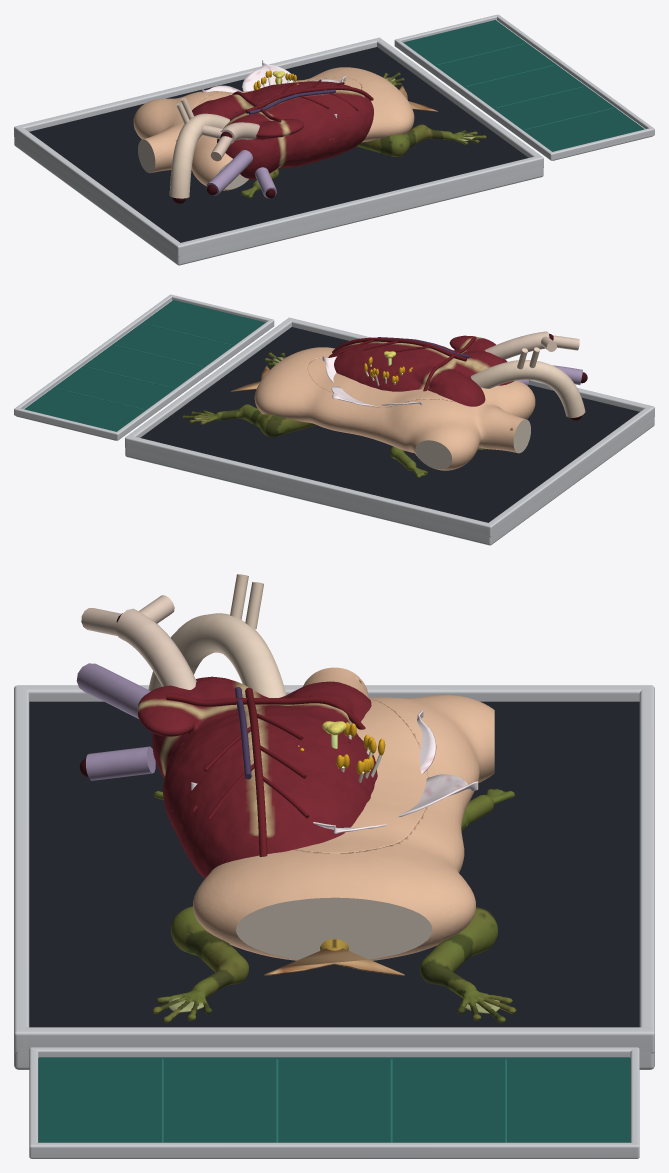
Rendered from dissect-parts.glb.
3 renders of one model, top to bottom at view 1: azimuth 30°, elevation 25°; view 2: azimuth 150°, elevation 25°; view 3: azimuth 270°, elevation 25°, orthographic. The views are drawn at different scales.
Visible parts, largest first — view 1: TRAY, TOOLTRAY, PIG_f_front, HUMAN_body, PIG_o_aorta, PIG_body, FROG_body, PIG_o_vc, PIG_o_coronary, PIG_o_pa, FLOWER_f_petals, HUMAN_f_left; view 2: TRAY, TOOLTRAY, HUMAN_body, PIG_f_front, PIG_o_aorta, FROG_body, HUMAN_f_left, PIG_o_pa, PIG_o_coronary, FLOWER_f_petals; view 3: TRAY, TOOLTRAY, HUMAN_body, PIG_f_front, FROG_body, HUMAN_f_left, PIG_o_aorta, PIG_o_coronary, PIG_o_pa, PIG_o_vc, FLOWER_f_petals, FISH_body_fins (+2 smaller).
Boxes of the visible parts, x1,y1,x2,y2 form: TRAY: [14, 37, 543, 265]; TOOLTRAY: [394, 14, 654, 160]; PIG_f_front: [192, 81, 373, 161]; HUMAN_body: [133, 67, 414, 190]; PIG_o_aorta: [169, 97, 229, 203]; PIG_body: [240, 114, 373, 180]; FROG_body: [241, 72, 486, 197]; PIG_o_vc: [206, 150, 276, 198]; PIG_o_coronary: [232, 79, 373, 122]; PIG_o_pa: [202, 122, 259, 161]; FLOWER_f_petals: [202, 60, 346, 118]; HUMAN_f_left: [195, 77, 357, 107]; TRAY: [125, 317, 654, 545]; TOOLTRAY: [14, 294, 274, 440]; HUMAN_body: [254, 347, 535, 470]; PIG_f_front: [328, 335, 513, 406]; PIG_o_aorta: [471, 347, 585, 420]; FROG_body: [182, 352, 488, 477]; HUMAN_f_left: [307, 361, 455, 407]; PIG_o_pa: [484, 331, 579, 359]; PIG_o_coronary: [332, 336, 476, 391]; FLOWER_f_petals: [322, 356, 422, 406]; TRAY: [14, 685, 654, 1069]; TOOLTRAY: [29, 1047, 639, 1158]; HUMAN_body: [193, 667, 494, 960]; PIG_f_front: [137, 676, 377, 861]; FROG_body: [152, 789, 516, 1023]; HUMAN_f_left: [334, 699, 427, 853]; PIG_o_aorta: [148, 574, 286, 697]; PIG_o_coronary: [166, 687, 365, 856]; PIG_o_pa: [81, 595, 196, 689]; PIG_o_vc: [76, 663, 155, 780]; FLOWER_f_petals: [191, 710, 478, 833]; FISH_body_fins: [264, 948, 404, 975].
Bounding box in the file's own units: 7.09 × 1.49 × 4.2.
